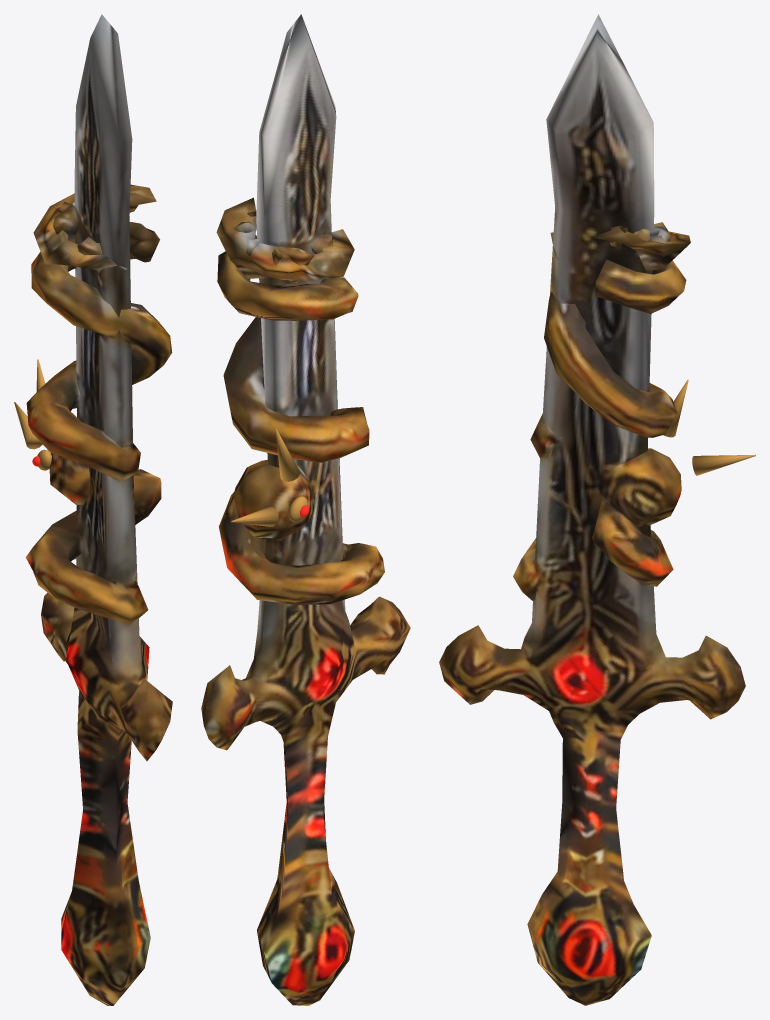
3 views of the same model, side by side, from view 1: azimuth 30°, elevation 25°; view 2: azimuth 150°, elevation 25°; view 3: azimuth 270°, elevation 25° (orthographic).
Visible parts, largest first — view 1: LF-03.003, LF-03, LF-03.001, LF-03.004, Dragon_horn_0; view 2: LF-03.003, LF-03, LF-03.001, LF-03.004, Dragon_horn_1, Dragon_horn_0; view 3: LF-03.003, LF-03, LF-03.001, LF-03.004, Dragon_horn_0.
Part boxes in pixels (left/top/right/bottom): LF-03.003: left=41, top=14, right=172, bottom=1005; LF-03: left=26, top=184, right=172, bottom=480; LF-03.001: left=26, top=469, right=161, bottom=624; LF-03.004: left=49, top=453, right=90, bottom=505; Dragon_horn_0: left=14, top=402, right=42, bottom=449; LF-03.003: left=201, top=14, right=410, bottom=1005; LF-03: left=216, top=197, right=369, bottom=462; LF-03.001: left=219, top=491, right=384, bottom=604; LF-03.004: left=233, top=460, right=313, bottom=539; Dragon_horn_1: left=275, top=428, right=299, bottom=481; Dragon_horn_0: left=231, top=507, right=278, bottom=526; LF-03.003: left=439, top=14, right=745, bottom=1005; LF-03: left=530, top=222, right=690, bottom=458; LF-03.001: left=513, top=500, right=673, bottom=600; LF-03.004: left=595, top=448, right=681, bottom=526; Dragon_horn_0: left=692, top=454, right=755, bottom=475.
Bounding box in the file's own units: 0.0781 × 0.55 × 0.1591.
Materials: 3 (1 with a texture image).
